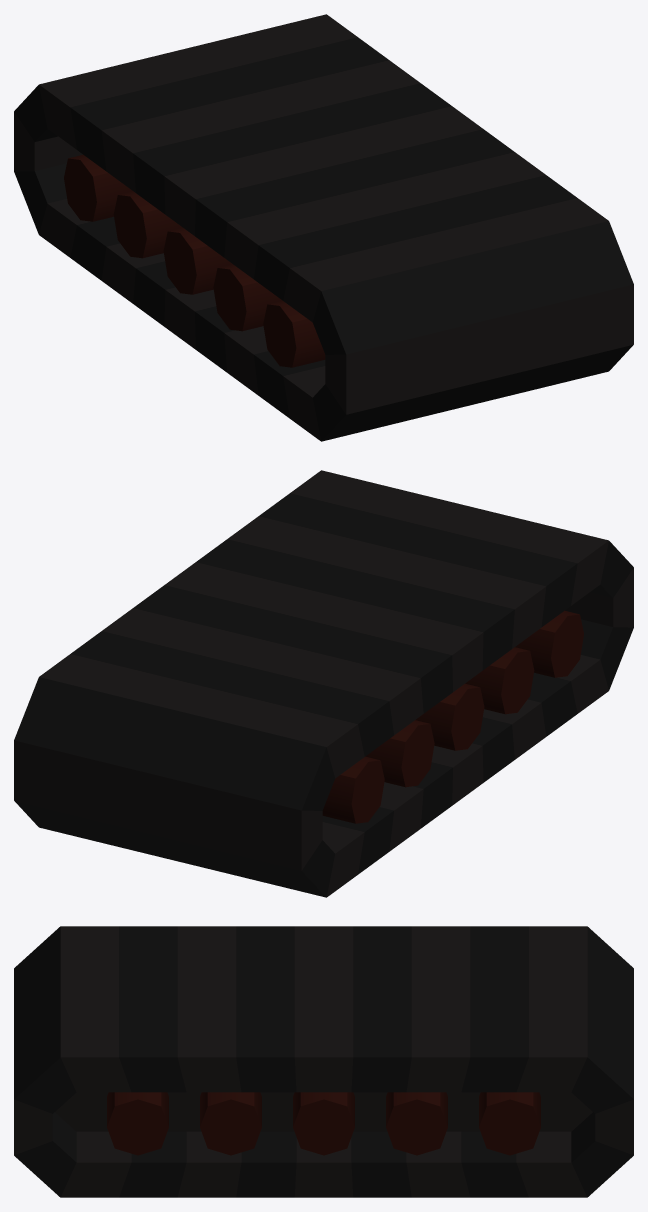
File: banda_corta.fbx
3 renders of one model, top to bottom at view 1: azimuth 30°, elevation 25°; view 2: azimuth 150°, elevation 25°; view 3: azimuth 270°, elevation 25°, orthographic. The views are drawn at different scales.
Parts seen in each view (by area): view 1: banda_corta; view 2: banda_corta; view 3: banda_corta.
Part boxes in pixels (x1,y1,x2,y2): banda_corta: (14, 14, 633, 441); banda_corta: (14, 470, 633, 897); banda_corta: (14, 926, 633, 1197).
Size of the model in its own units: 100 by 50 by 200.
